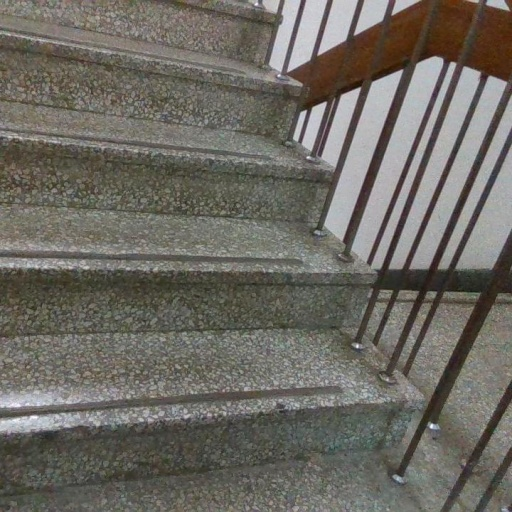Stairs: (0, 0, 421, 494)
